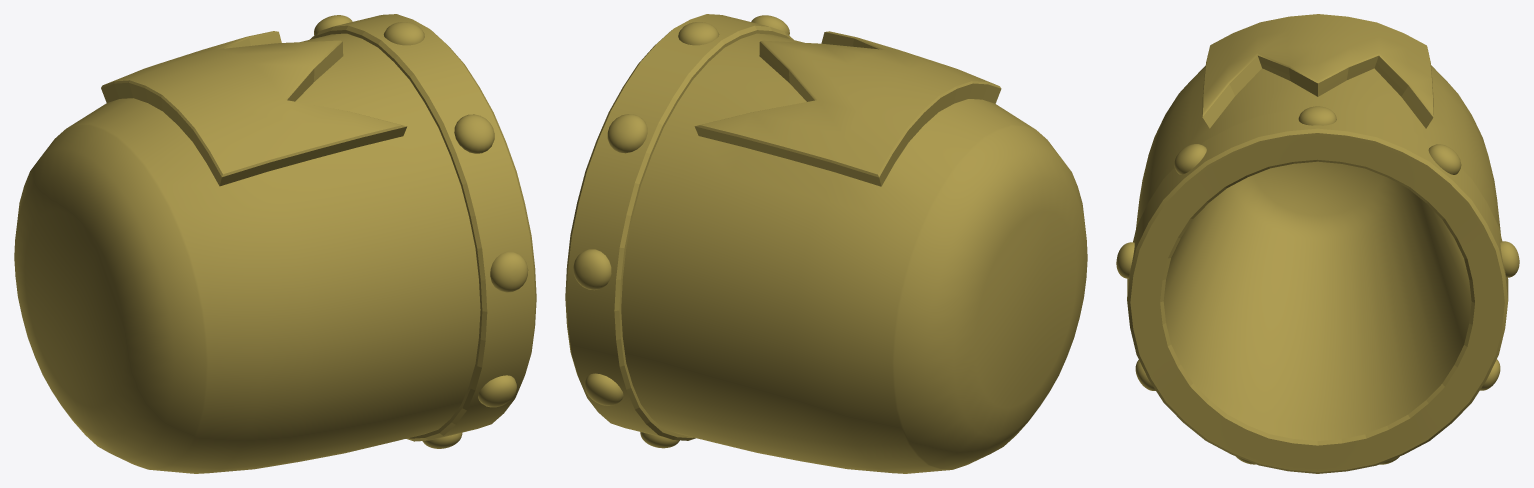
Rendered from Bucket.fbx.
The picture shows the model from 3 angles, left to right: view 1: azimuth 30°, elevation 25°; view 2: azimuth 150°, elevation 25°; view 3: azimuth 270°, elevation 25°; orthographic projection. The views are drawn at different scales.
Visible parts, largest first — view 1: pCylinder1; view 2: pCylinder1; view 3: pCylinder1.
Part boxes in pixels (x1,y1,x2,y2): pCylinder1: [14, 14, 536, 473]; pCylinder1: [565, 14, 1087, 473]; pCylinder1: [1116, 14, 1519, 473].
Size of the model in its own units: 371 by 393 by 406.
